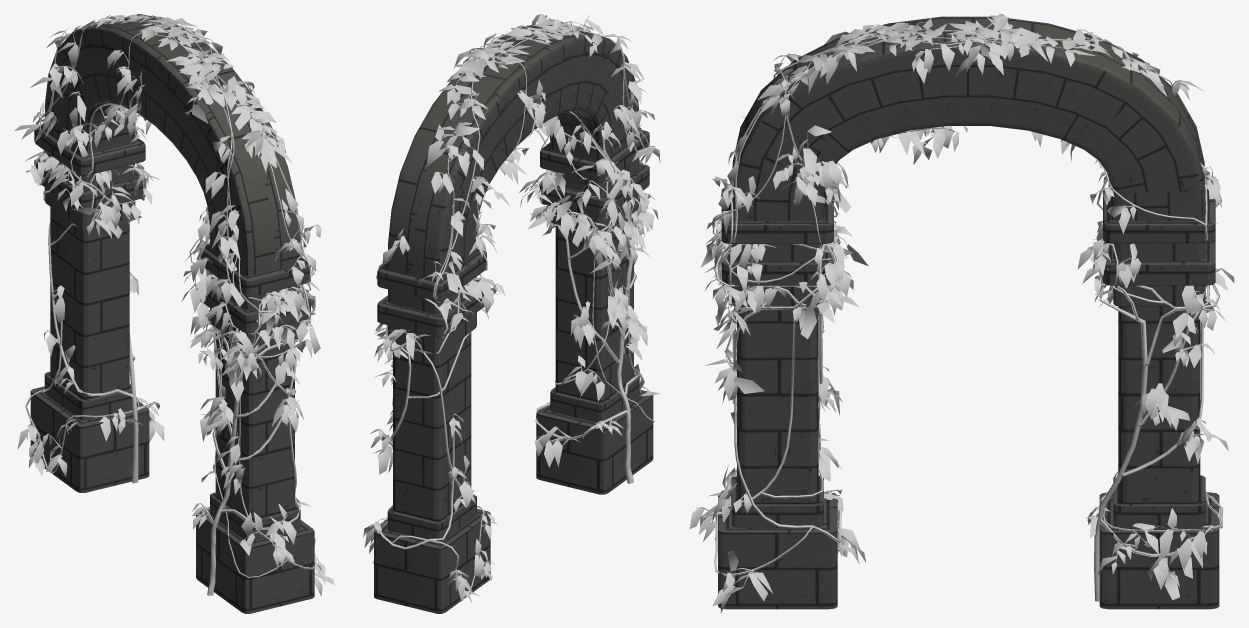
The model's file is Arch_A.fbx.
3 renders of one model, left to right at view 1: azimuth 30°, elevation 25°; view 2: azimuth 150°, elevation 25°; view 3: azimuth 270°, elevation 25°, orthographic. The views are drawn at different scales.
Visible parts, largest first — view 1: T_StoneWall_basecolor, M_RedIvyLeaves, M_IvyStem; view 2: T_StoneWall_basecolor, M_RedIvyLeaves, M_IvyStem; view 3: T_StoneWall_basecolor, M_RedIvyLeaves, M_IvyStem.
Boxes of the visible parts, <box> form: T_StoneWall_basecolor: <box>30,14,314,613</box>; M_RedIvyLeaves: <box>14,14,334,596</box>; M_IvyStem: <box>25,15,318,595</box>; T_StoneWall_basecolor: <box>374,24,653,613</box>; M_RedIvyLeaves: <box>363,14,660,603</box>; M_IvyStem: <box>376,15,655,596</box>; T_StoneWall_basecolor: <box>718,16,1219,609</box>; M_RedIvyLeaves: <box>689,15,1234,613</box>; M_IvyStem: <box>696,14,1222,601</box>.
Bounding box in the file's own units: 85.85 × 356 × 309.
